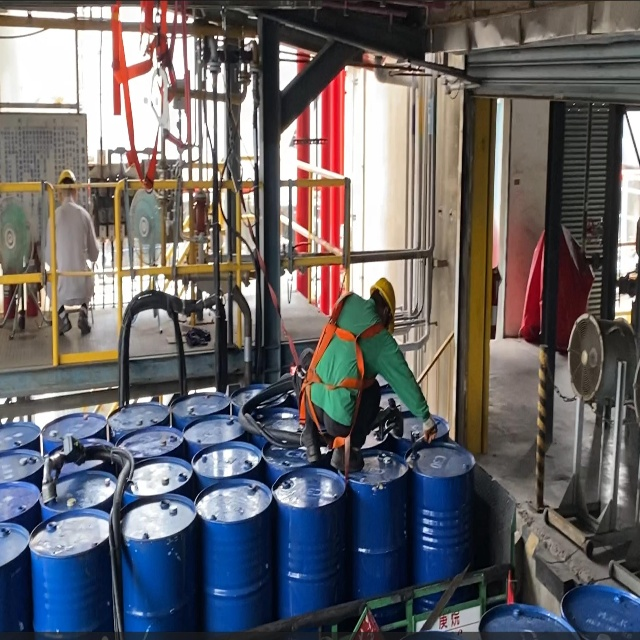Arnes_seguridad: (298, 289, 384, 465)
